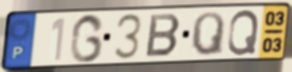1: (51, 17, 67, 62)
3: (112, 12, 144, 61)
B: (143, 13, 183, 58)
G: (68, 12, 106, 64)
Q: (190, 10, 227, 58), (226, 8, 261, 57)
